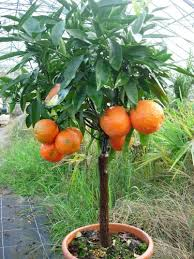orange: (131, 100, 165, 135), (97, 106, 131, 137), (56, 127, 80, 158), (32, 119, 60, 144), (39, 142, 61, 162)
